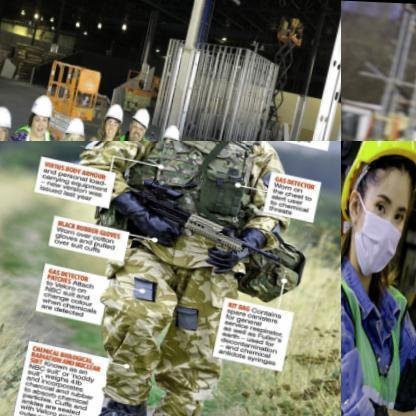vest: (126, 141, 268, 245), (6, 121, 62, 140)
